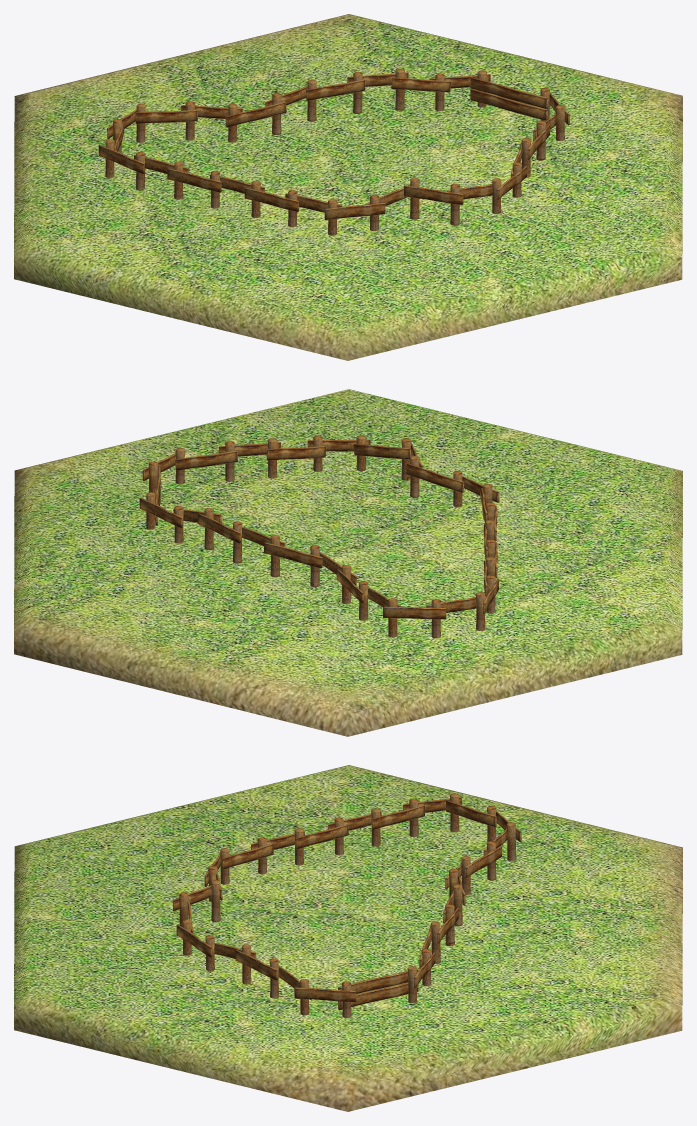
File: greenhex.FBX
3 views of the same model, one above another, from view 1: azimuth 30°, elevation 25°; view 2: azimuth 150°, elevation 25°; view 3: azimuth 270°, elevation 25° (orthographic).
Visible parts, largest first — view 1: Hexa, Ohrada; view 2: Hexa, Ohrada; view 3: Hexa, Ohrada.
Part boxes in pixels (left/top/right/bottom): Hexa: left=14, top=14, right=682, bottom=360; Ohrada: left=98, top=68, right=570, bottom=235; Hexa: left=14, top=389, right=682, bottom=736; Ohrada: left=139, top=435, right=499, bottom=638; Hexa: left=14, top=765, right=682, bottom=1111; Ohrada: left=172, top=793, right=521, bottom=1017.
Size of the model in its own units: 961 by 100 by 833.
2 materials, 2 textured.
